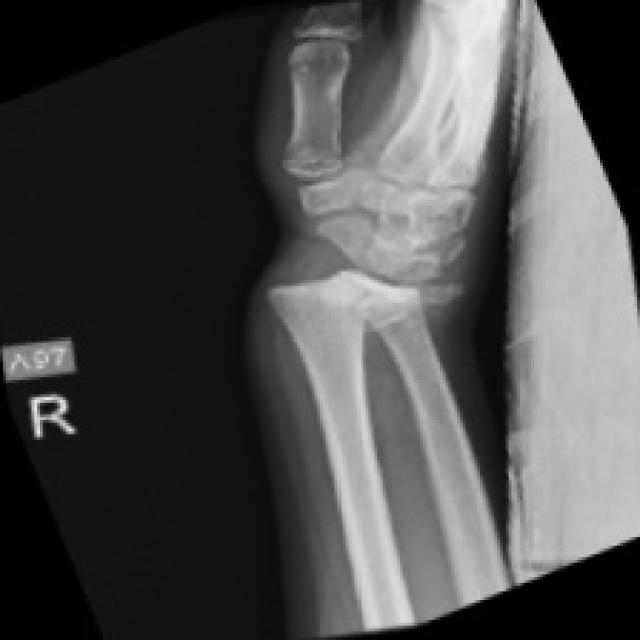fracture: (227, 156, 430, 360)
